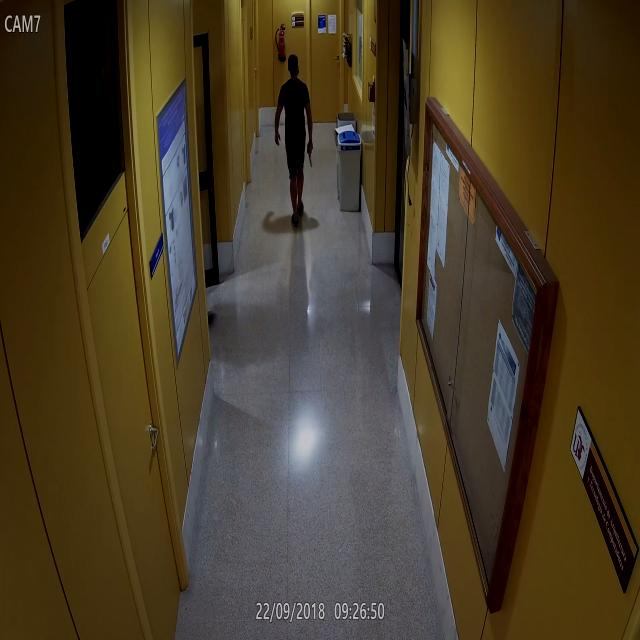pistol: (305, 140, 315, 167)
